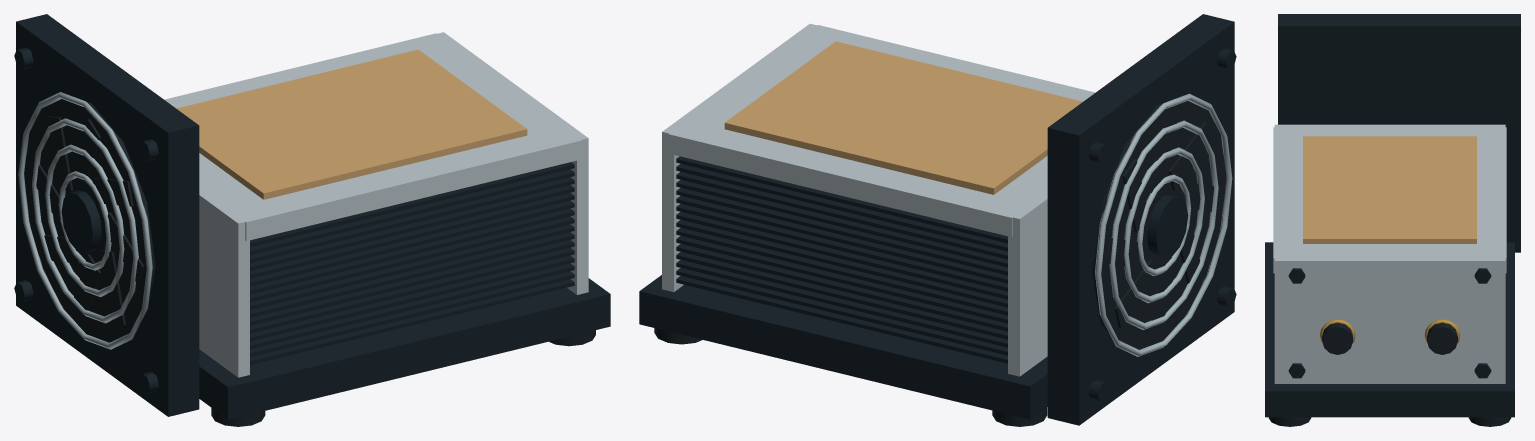
File: heater-low.glb
3 renders of one model, left to right at view 1: azimuth 30°, elevation 25°; view 2: azimuth 150°, elevation 25°; view 3: azimuth 270°, elevation 25°, orthographic. The views are drawn at different scales.
Parts seen in each view (by area): view 1: black-anodised, satin-aluminium, heater-element, matte-polymer, stainless-steel; view 2: black-anodised, satin-aluminium, heater-element, matte-polymer, stainless-steel; view 3: black-anodised, satin-aluminium, heater-element, matte-polymer, plated-brass.
Boxes of the visible parts, x1,y1,x2,y2 form: black-anodised: [14, 14, 610, 419]; satin-aluminium: [164, 32, 588, 377]; heater-element: [176, 49, 527, 199]; matte-polymer: [24, 99, 595, 426]; stainless-steel: [18, 92, 152, 349]; black-anodised: [639, 14, 1236, 425]; satin-aluminium: [662, 23, 1095, 376]; heater-element: [724, 41, 1082, 194]; matte-polymer: [654, 101, 1226, 426]; stainless-steel: [1095, 93, 1232, 356]; black-anodised: [1265, 14, 1520, 417]; satin-aluminium: [1273, 124, 1506, 383]; heater-element: [1303, 136, 1476, 243]; matte-polymer: [1268, 322, 1511, 426]; plated-brass: [1320, 319, 1460, 343].
Size of the model in its own units: 1.75 by 1.13 by 1.07.
